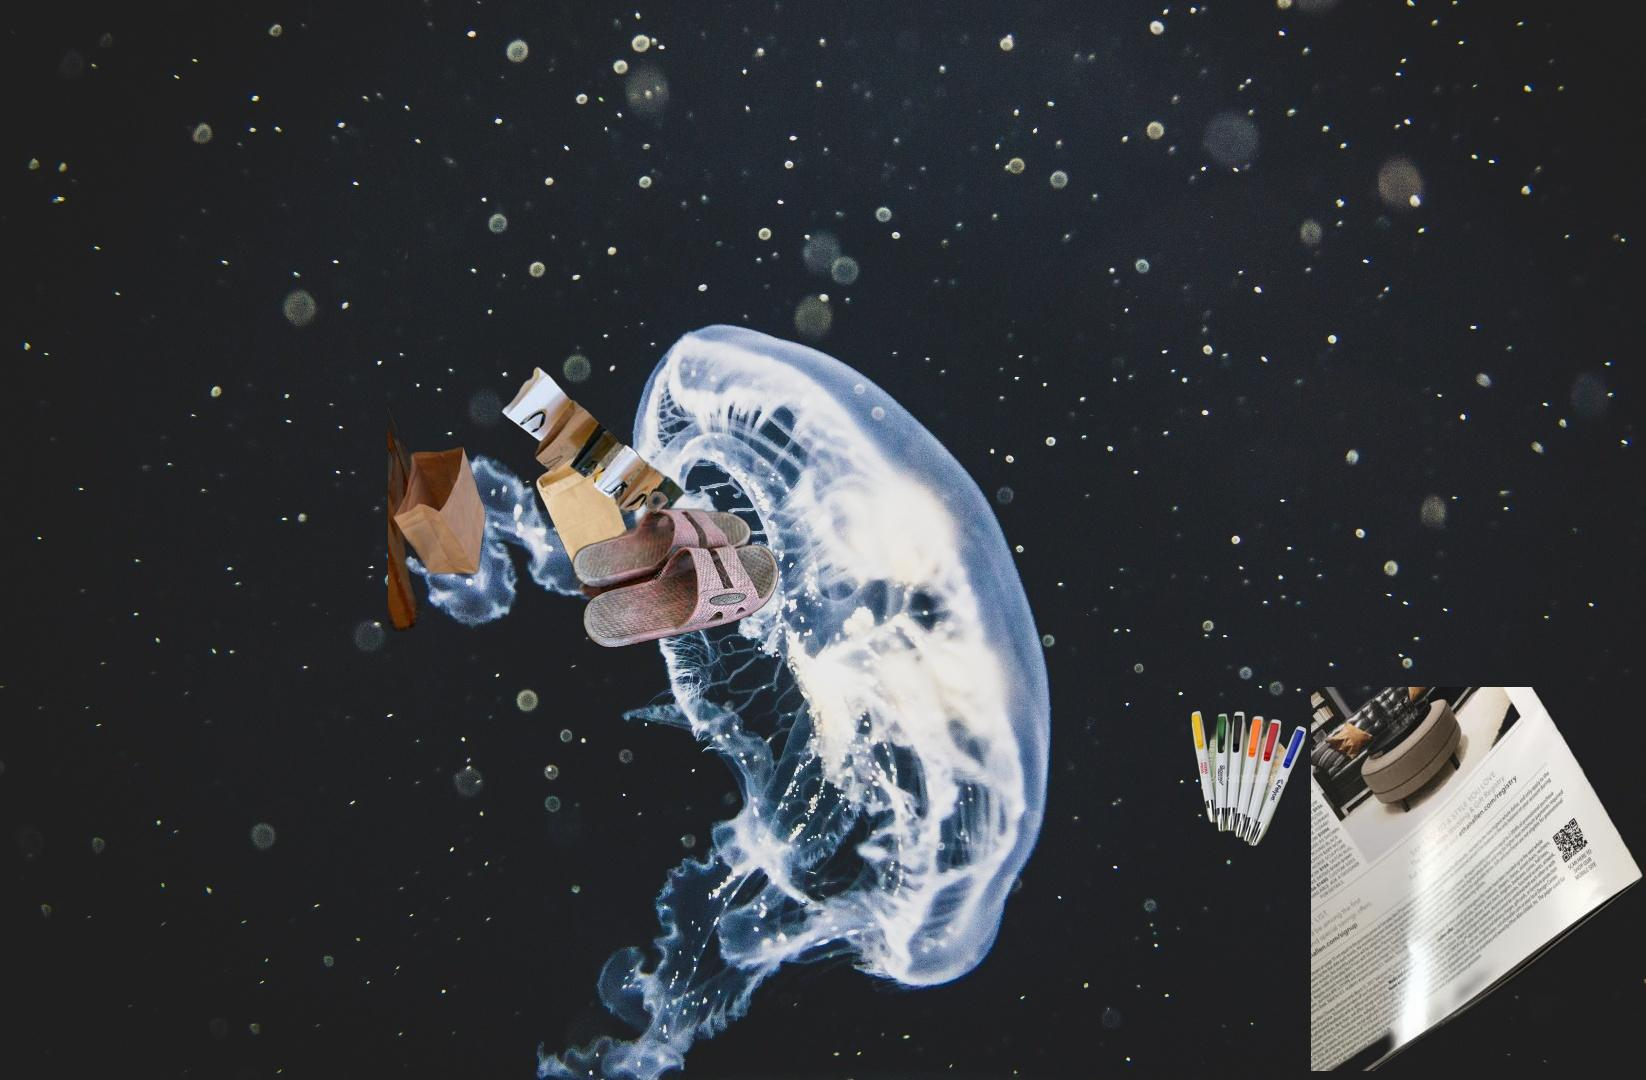paper: (1311, 687, 1646, 1072)
paper-bag: (388, 364, 687, 646)
penholder: (1188, 702, 1309, 849)
shoes: (563, 487, 782, 650)
